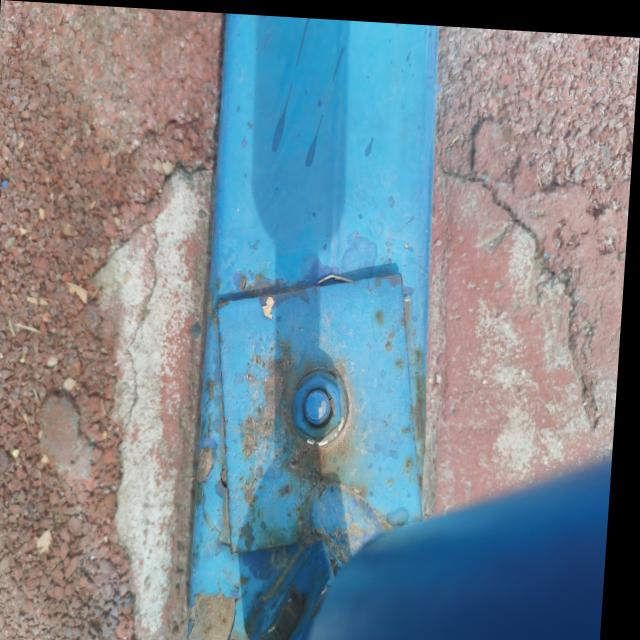Regular bolt: (294, 370, 347, 441), (265, 580, 311, 640)
